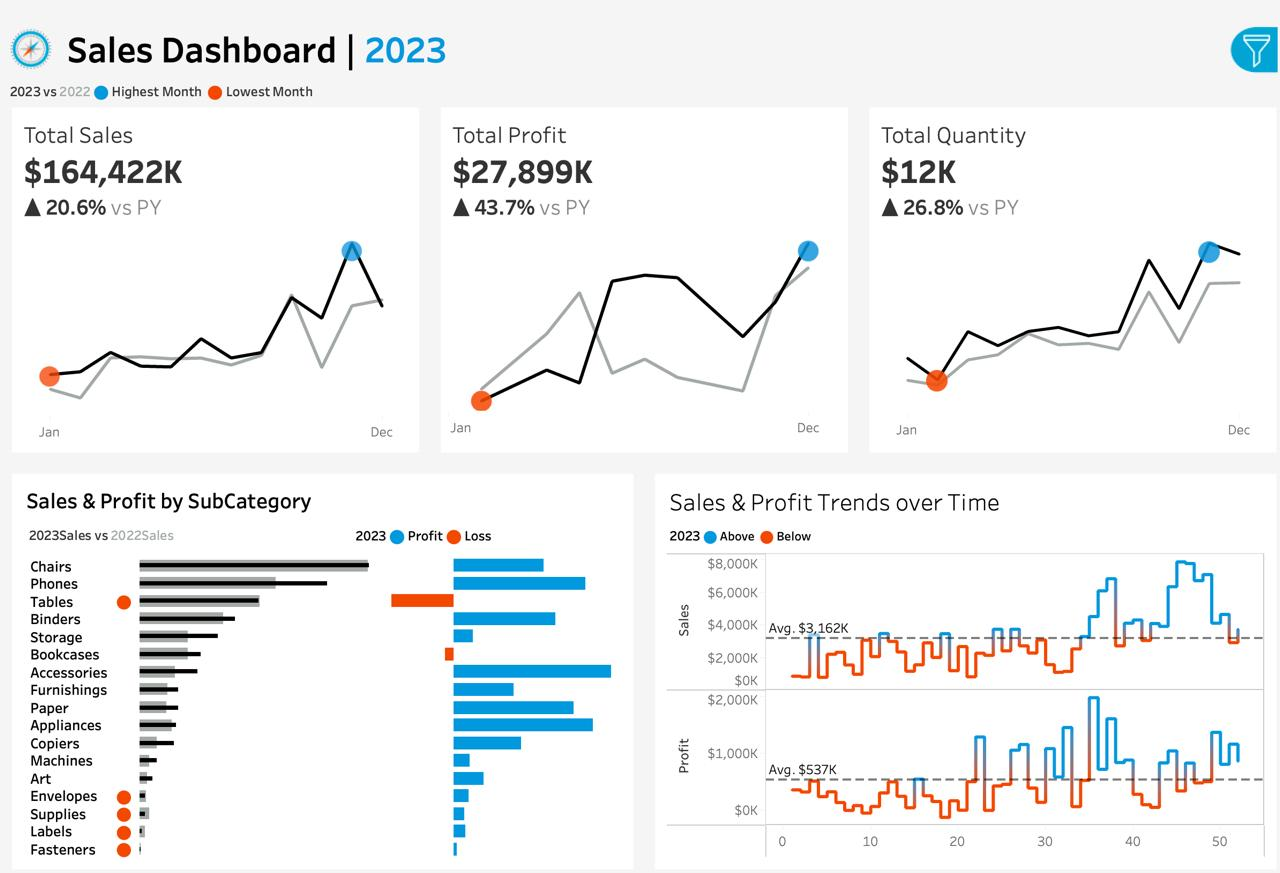

The page's visual inventory and layout, read from the dashboard file:
{"tool":"tableau","page":{"name":"Sales Dashboard","canvas":[1200,800],"ordinal":0},"visuals":[{"type":"image","param":"/Users/amitesh/Desktop/Sales Dashboard Materials/Dashboard Icons/Icon - Logo.png","box":[0,0,55,49]},{"type":"text","box":[55,0,1145,49]},{"type":"text","box":[972,10,218,96]},{"type":"worksheet","title":"Legend S/P/Q","mark":"Automatic","box":[0,49,1200,30]},{"type":"worksheet","title":"Sales","mark":"Automatic","rows":["Calculation_1422926386359509006"],"cols":["Order Date"],"box":[0,79,400,332]},{"type":"worksheet","title":"Profit","mark":"Line","rows":["Calculation_1422926386707451930"],"cols":["Order Date"],"box":[400,79,400,332]},{"type":"worksheet","title":"Quantity","mark":"Automatic","rows":["Calculation_1422926386707816475"],"cols":["Order Date"],"box":[800,79,400,332]},{"type":"parameter","param":"[Parameters].[Parameter 1]","box":[972,106,218,59]},{"type":"text","box":[972,165,218,29]},{"type":"filter","title":"Sales","param":"[federated.1f1avti1h22v4d1a8t5041eadgen].[none:Category:nk]","box":[972,194,218,52]},{"type":"filter","title":"Sales","param":"[federated.1f1avti1h22v4d1a8t5041eadgen].[none:Sub-Category:nk]","box":[972,246,218,52]},{"type":"blank","box":[972,298,218,50]},{"type":"text","box":[972,348,218,29]},{"type":"filter","title":"Sales","param":"[federated.1f1avti1h22v4d1a8t5041eadgen].[none:Region:nk]","box":[972,377,218,52]},{"type":"text","box":[17,428,566,34]},{"type":"text","box":[617,428,566,38]},{"type":"filter","title":"Sales","param":"[federated.1f1avti1h22v4d1a8t5041eadgen].[none:State:nk]","box":[972,429,218,52]},{"type":"worksheet","title":"Legend SubCategory","mark":"Automatic","box":[17,462,307,32]},{"type":"text","box":[324,462,259,32]},{"type":"text","box":[617,466,566,25]},{"type":"filter","title":"Sales","param":"[federated.1f1avti1h22v4d1a8t5041eadgen].[none:City:nk]","box":[972,481,218,52]},{"type":"worksheet","title":"Weekly Trends","mark":"Automatic","rows":["Calculation_1422926386349158409","Calculation_1422926386687614996"],"cols":["Order Date"],"box":[617,491,566,292]},{"type":"worksheet","title":"Subcatrgory Comparison","mark":"Bar","rows":["Sub-Category","Calculation_1422926387051438116"],"cols":["CY Sales (copy)_1422926386349604875","Calculation_1422926386349158409","Calculation_1422926386687614996"],"box":[17,494,566,289]}]}

Visuals, with their boxes in screenshot pixels (x1, y1, x2, y2), scaled from the page's 1200x800 canvas onto the 1280x873 screenshot:
image: Rect(0, 0, 59, 53)
text: Rect(59, 0, 1279, 53)
text: Rect(1037, 11, 1269, 116)
"Legend S/P/Q" worksheet: Rect(0, 53, 1279, 86)
"Sales" worksheet: Rect(0, 86, 427, 449)
"Profit" worksheet (Line marks): Rect(427, 86, 853, 449)
"Quantity" worksheet: Rect(853, 86, 1279, 449)
parameter: Rect(1037, 116, 1269, 180)
text: Rect(1037, 180, 1269, 212)
"Sales" filter: Rect(1037, 212, 1269, 268)
"Sales" filter: Rect(1037, 268, 1269, 325)
blank: Rect(1037, 325, 1269, 380)
text: Rect(1037, 380, 1269, 411)
"Sales" filter: Rect(1037, 411, 1269, 468)
text: Rect(18, 467, 622, 504)
text: Rect(658, 467, 1262, 509)
"Sales" filter: Rect(1037, 468, 1269, 525)
"Legend SubCategory" worksheet: Rect(18, 504, 346, 539)
text: Rect(346, 504, 622, 539)
text: Rect(658, 509, 1262, 536)
"Sales" filter: Rect(1037, 525, 1269, 582)
"Weekly Trends" worksheet: Rect(658, 536, 1262, 854)
"Subcatrgory Comparison" worksheet (Bar marks): Rect(18, 539, 622, 854)
